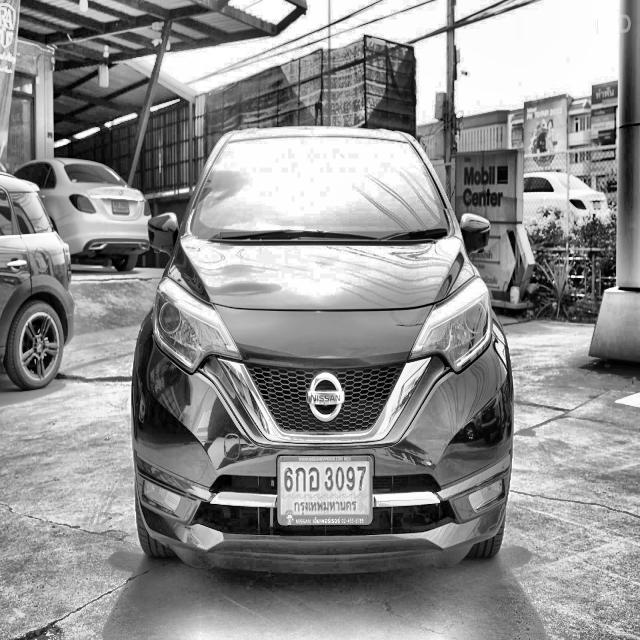license-plate: (276, 447, 375, 533)
